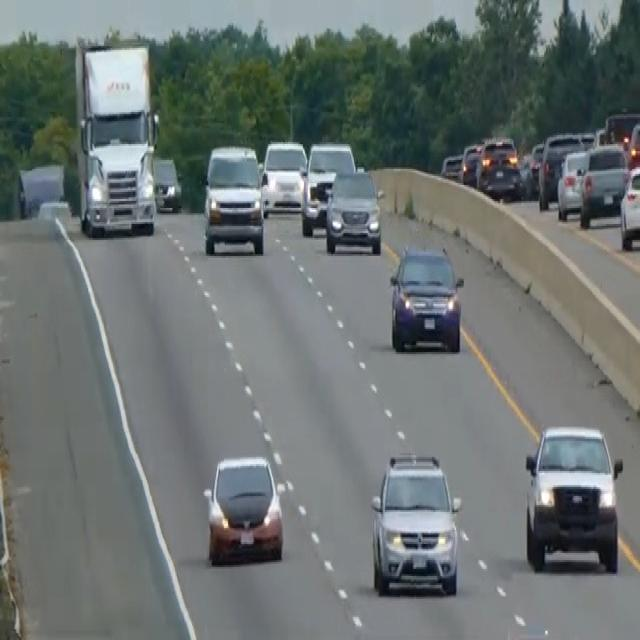car: (202, 452, 284, 566), (388, 242, 464, 354), (300, 138, 356, 234), (324, 167, 383, 254), (578, 140, 629, 228), (537, 130, 584, 210), (260, 137, 307, 215), (556, 146, 589, 218), (475, 135, 518, 190), (619, 160, 639, 251), (152, 155, 182, 213), (484, 158, 523, 201), (460, 140, 482, 187), (526, 139, 545, 192), (440, 151, 464, 181), (626, 117, 639, 169)
jeep: (523, 420, 623, 572), (368, 447, 463, 598)
lorry: (73, 34, 160, 238)
minivan: (202, 142, 265, 256)
